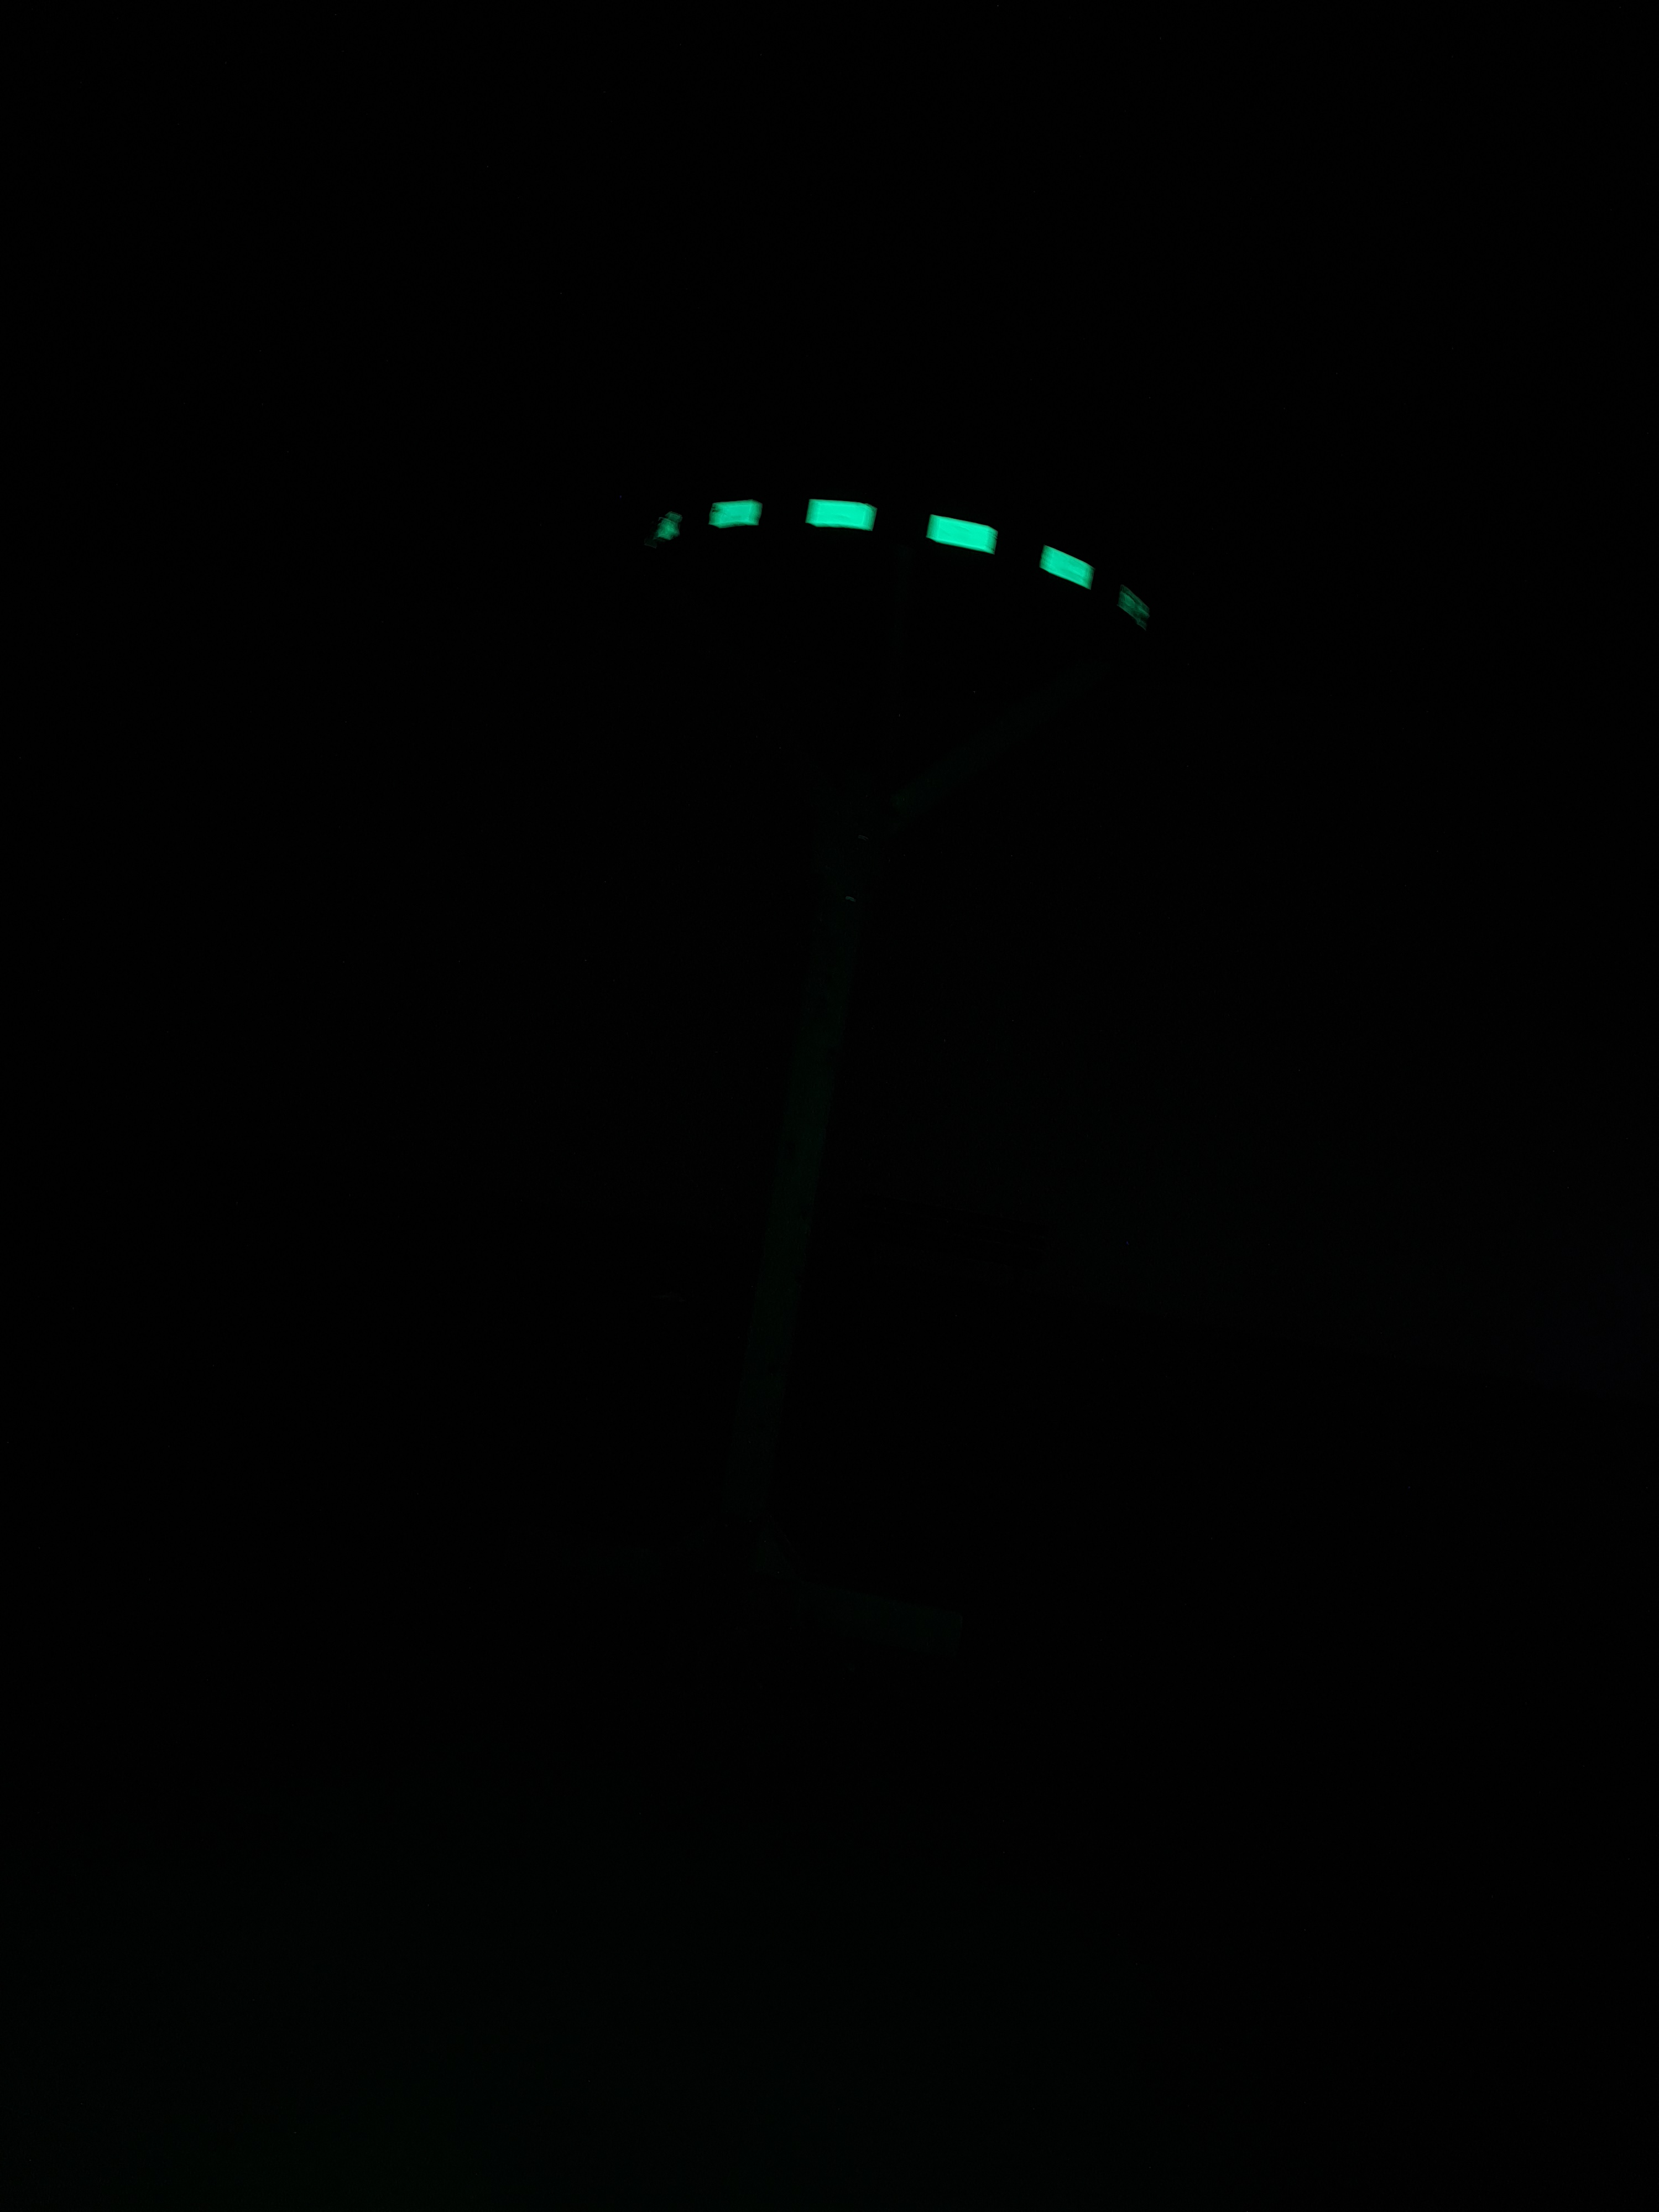hoop: (643, 482, 1150, 641)
